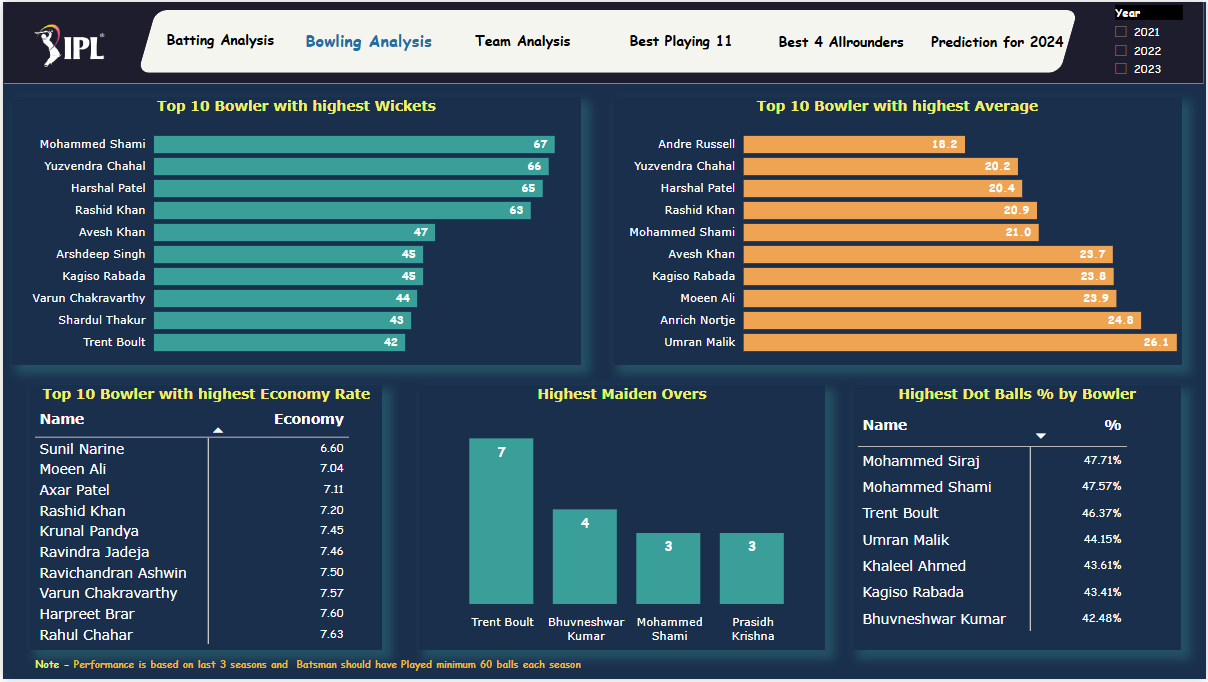

Layout of this report page (visuals, bound fields, positions):
{"tool":"powerbi","page":{"name":"Bowling Analysis","canvas":[1280,720],"ordinal":2},"visuals":[{"type":"barChart","title":"Top 10 Bowler with highest Wickets","fields":{"Category":["fact_bowling_summary.bowlerName"],"Y":["Key Metrics.Total Wickets"]},"box":[9.5,100.8,604.8,285.1],"z":0},{"type":"barChart","title":"Top 10 Bowler with highest Average","fields":{"Category":["fact_bowling_summary.bowlerName"],"Y":["Key Metrics.Bowling Average min 60 balls each season"]},"box":[648.9,100.8,604.8,285.1],"z":1000},{"type":"pivotTable","title":"Highest Dot Balls % by Bowler","fields":{"Rows":["fact_bowling_summary.bowlerName"],"Values":["Key Metrics.Dot Balls % Min 60 Balls"]},"box":[904.7,408,349.3,282],"z":2000},{"type":"pivotTable","title":"Top 10 Bowler with highest Economy Rate","fields":{"Rows":["fact_bowling_summary.bowlerName"],"Values":["Key Metrics.1. Economy Rate min 60 Balls"]},"box":[28.4,407.9,374.9,281.9],"z":3000},{"type":"clusteredColumnChart","title":"Highest Maiden Overs","fields":{"Category":["fact_bowling_summary.bowlerName"],"Y":["fact_bowling_summary.maiden"]},"box":[442.6,407.9,431.6,281.9],"z":4000},{"type":"shape","title":"Black Shape","box":[1.6,0,1276,86.6],"z":5000},{"type":"shape","title":"White shape","box":[143.2,8.5,999.7,66.8],"z":6000},{"type":"slicer","fields":{"Values":["dim_match_summary.Year"]},"box":[1168.7,0,97.7,85],"z":7000},{"type":"group","id":"g1","title":"Group 1","box":[153.4,6,988.6,68.7],"z":8000},{"type":"image","box":[28.6,15.7,84.5,61.6],"z":9000},{"type":"textbox","box":[0,689.9,648.9,29.9],"z":10000},{"type":"actionButton","title":"Button Player Ana selected","box":[153.4,6.2,155.8,66.8],"z":12500,"group":"g1"},{"type":"actionButton","title":"Button Player Ana selected","box":[309.4,6,158.9,68.7],"z":13000,"group":"g1"},{"type":"actionButton","title":"Button Player Ana selected","box":[471.1,6,163.2,67.3],"z":14000,"group":"g1"},{"type":"actionButton","title":"Button Player Ana selected","box":[634.3,6,174.6,68.7],"z":15000,"group":"g1"},{"type":"actionButton","title":"Button Player Ana selected","box":[808.3,7.8,166.1,66.8],"z":17000,"group":"g1"},{"type":"actionButton","title":"Button Player Ana selected","box":[975.1,7.7,166.9,66.8],"z":17500,"group":"g1"}]}

Visuals, with their boxes in screenshot pixels (x1, y1, x2, y2), scaled from the page's 1280x720 canvas onto the 1208x682 screenshot:
"Top 10 Bowler with highest Wickets" barChart: 9, 95, 580, 366
"Top 10 Bowler with highest Average" barChart: 612, 95, 1183, 366
"Highest Dot Balls % by Bowler" pivotTable: 854, 386, 1183, 654
"Top 10 Bowler with highest Economy Rate" pivotTable: 27, 386, 381, 653
"Highest Maiden Overs" clusteredColumnChart: 418, 386, 825, 653
"Black Shape" shape: 2, 0, 1206, 82
"White shape" shape: 135, 8, 1079, 71
slicer - dim_match_summary.Year: 1103, 0, 1195, 81
"Group 1" group: 145, 6, 1078, 71
image: 27, 15, 107, 73
textbox: 0, 653, 612, 681
"Button Player Ana selected" actionButton: 145, 6, 292, 69
"Button Player Ana selected" actionButton: 292, 6, 442, 71
"Button Player Ana selected" actionButton: 445, 6, 599, 69
"Button Player Ana selected" actionButton: 599, 6, 763, 71
"Button Player Ana selected" actionButton: 763, 7, 920, 71
"Button Player Ana selected" actionButton: 920, 7, 1078, 71
